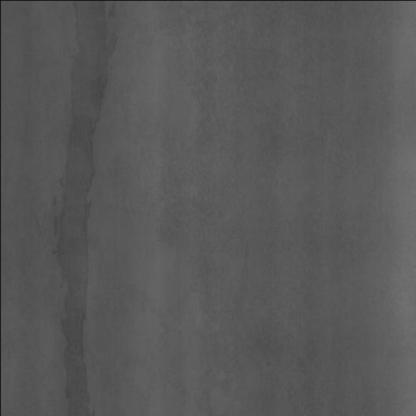water_spot: (50, 20, 117, 368)
